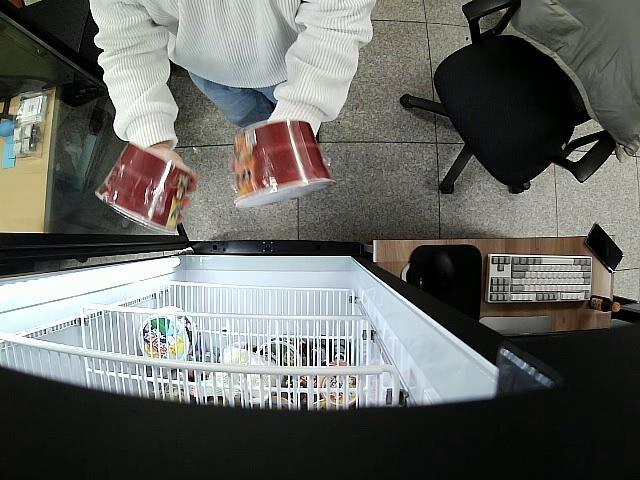05_nuguri_L: (92, 138, 193, 236), (232, 118, 332, 212)
